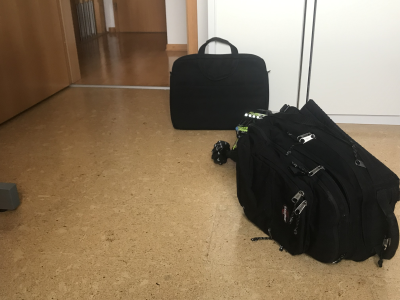remote control car: (208, 107, 275, 172)
